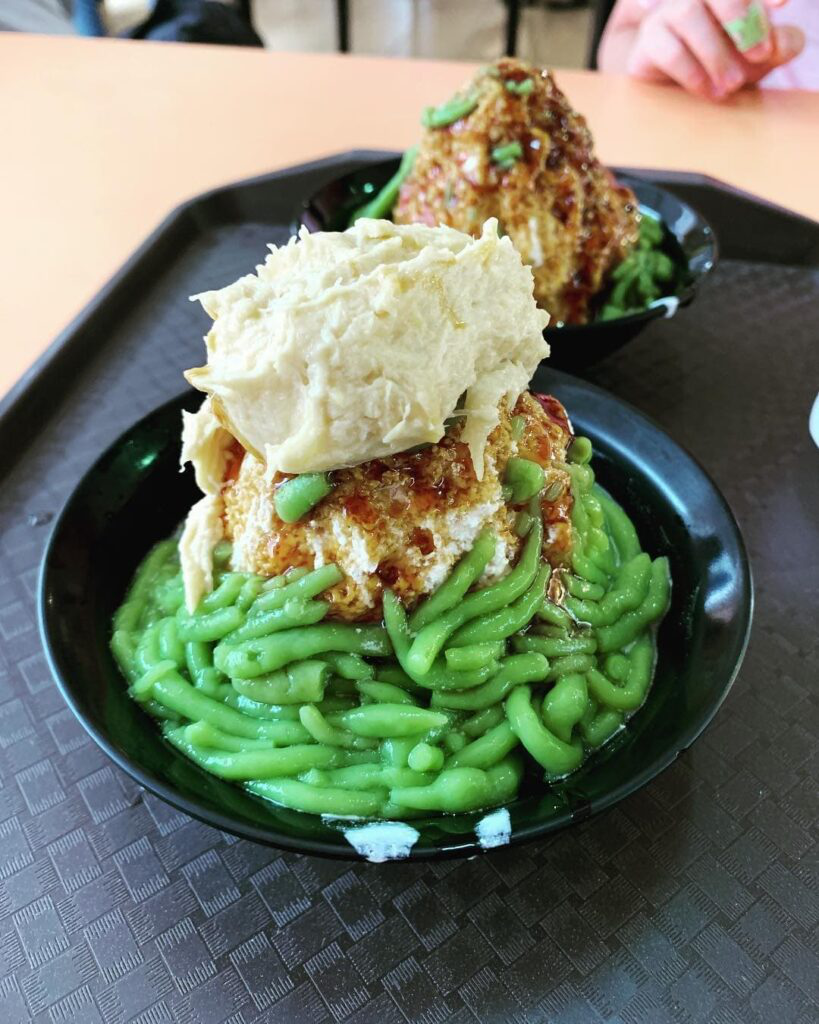Chendol: (124, 272, 694, 860), (287, 35, 684, 310)
